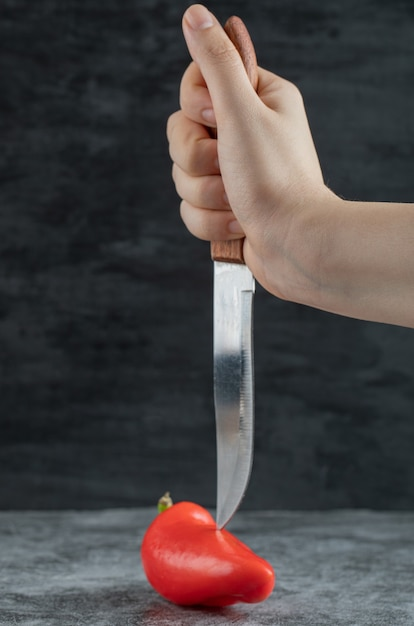knife: (207, 241, 266, 532)
